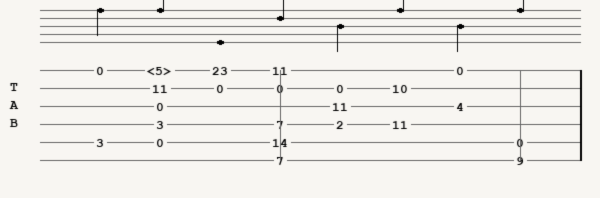0: (96, 64, 108, 76), (156, 136, 168, 148), (156, 100, 168, 112), (216, 82, 228, 94), (276, 82, 288, 94), (336, 82, 348, 94), (456, 64, 468, 76), (516, 136, 528, 148)
10: (392, 82, 412, 94)
11: (152, 82, 172, 94), (272, 64, 292, 76), (332, 100, 352, 112), (392, 118, 412, 130)
14: (272, 136, 292, 148)
2: (336, 118, 348, 130)
23: (212, 64, 232, 76)
3: (96, 136, 108, 148), (156, 118, 168, 130)
4: (456, 100, 468, 112)
7: (276, 118, 288, 130), (276, 154, 288, 166)
9: (516, 154, 528, 166)
harmonic: (147, 64, 176, 76)
